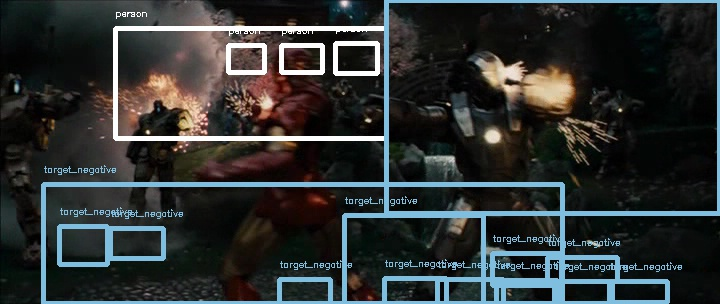person: (269, 44, 309, 90), (268, 44, 308, 90), (270, 44, 310, 90), (269, 43, 309, 89), (269, 45, 309, 91)
target_negative: (115, 156, 561, 274), (186, 47, 360, 138), (495, 240, 664, 275), (690, 13, 697, 253), (368, 283, 549, 289), (273, 288, 697, 289)
